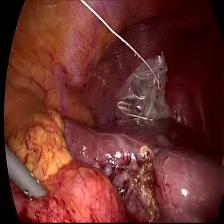Irrigator: (15, 164, 53, 208)
Specimen Bag: (105, 46, 179, 128)
